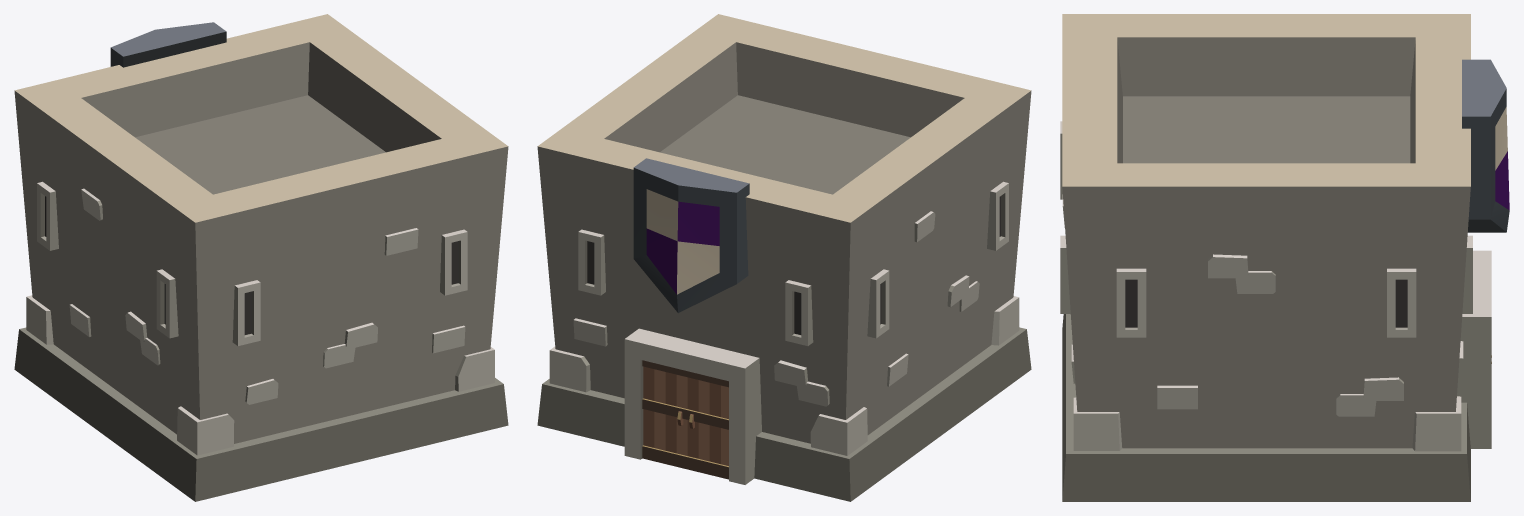
File: Barracks_Lv1.obj
The picture shows the model from 3 angles, left to right: view 1: azimuth 30°, elevation 25°; view 2: azimuth 150°, elevation 25°; view 3: azimuth 270°, elevation 25°; orthographic projection. The views are drawn at different scales.
Visible parts, largest first — view 1: Barracks_Lv1; view 2: Barracks_Lv1; view 3: Barracks_Lv1.
Boxes of the visible parts, <box> form: Barracks_Lv1: <box>14,14,508,501</box>; Barracks_Lv1: <box>537,14,1031,501</box>; Barracks_Lv1: <box>1060,14,1509,501</box>.
Bounding box in the file's own units: 6.46 × 5.66 × 7.04.
Materials: 1 (1 with a texture image).
